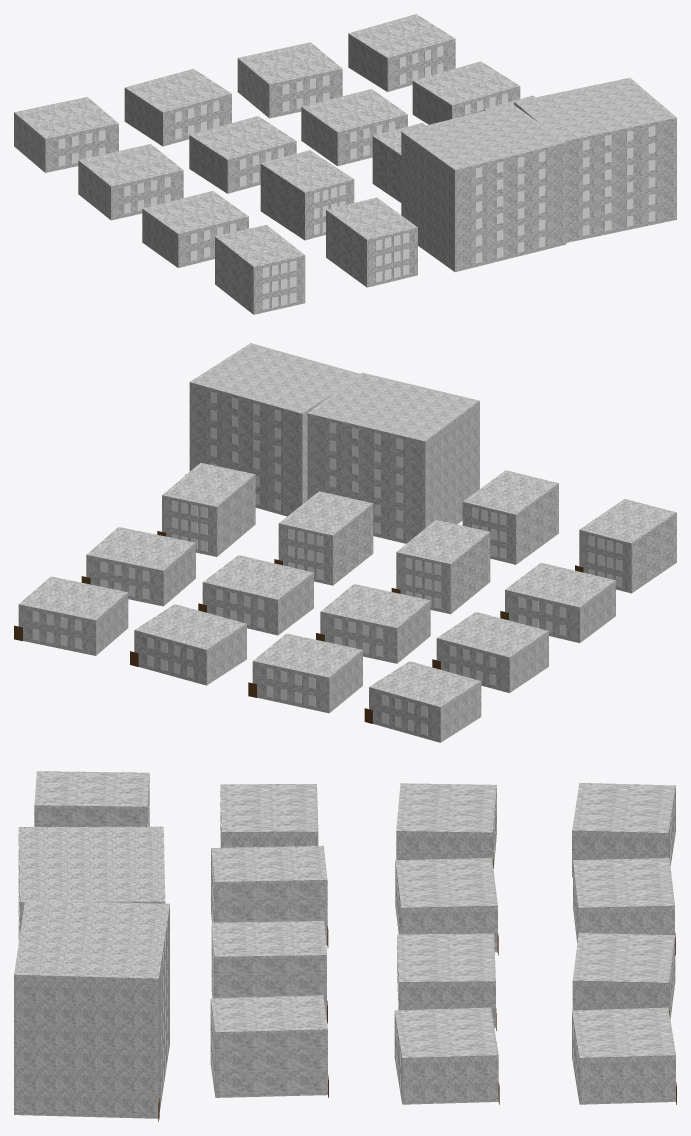
Rendered from bld_mln3w8z8_gxoxed5.glb.
3 views of the same model, one above another, from view 1: azimuth 30°, elevation 25°; view 2: azimuth 150°, elevation 25°; view 3: azimuth 270°, elevation 25° (orthographic). The views are drawn at different scales.
Parts seen in each view (by area): view 1: building-building-1771121291963-18, building-building-1771121291963-19, building-building-1771121291963-17, building-building-1771121291963-16, building-building-1771121291963-4, building-building-1771121291963-2, building-building-1771121291963-12, building-building-1771121291963-6, building-building-1771121291963-3, building-building-1771121291963-1, building-building-1771121291963-8, building-building-1771121291963-7 (+3 smaller); view 2: building-building-1771121291963-18, building-building-1771121291963-19, building-building-1771121291963-1, building-building-1771121291963-3, building-building-1771121291963-2, building-building-1771121291963-16, building-building-1771121291963-4, building-building-1771121291963-13, building-building-1771121291963-12, building-building-1771121291963-6, building-building-1771121291963-14, building-building-1771121291963-8 (+4 smaller); view 3: building-building-1771121291963-19, building-building-1771121291963-14, building-building-1771121291963-18, building-building-1771121291963-9, building-building-1771121291963-4, building-building-1771121291963-12, building-building-1771121291963-13, building-building-1771121291963-7, building-building-1771121291963-1, building-building-1771121291963-3, building-building-1771121291963-2, building-building-1771121291963-6 (+3 smaller).
Part boxes in pixels (bbox=[...]): building-building-1771121291963-18: bbox=[401, 104, 566, 272]; building-building-1771121291963-19: bbox=[514, 77, 676, 242]; building-building-1771121291963-17: bbox=[326, 197, 417, 287]; building-building-1771121291963-16: bbox=[215, 225, 305, 314]; building-building-1771121291963-4: bbox=[348, 14, 455, 91]; building-building-1771121291963-2: bbox=[124, 68, 231, 146]; building-building-1771121291963-12: bbox=[260, 150, 354, 240]; building-building-1771121291963-6: bbox=[78, 144, 183, 220]; building-building-1771121291963-3: bbox=[237, 42, 342, 118]; building-building-1771121291963-1: bbox=[14, 97, 118, 172]; building-building-1771121291963-8: bbox=[301, 89, 407, 166]; building-building-1771121291963-7: bbox=[189, 116, 296, 193]; building-building-1771121291963-18: bbox=[307, 372, 479, 543]; building-building-1771121291963-19: bbox=[185, 343, 359, 516]; building-building-1771121291963-1: bbox=[364, 661, 481, 742]; building-building-1771121291963-3: bbox=[130, 604, 246, 685]; building-building-1771121291963-2: bbox=[248, 633, 362, 713]; building-building-1771121291963-16: bbox=[575, 499, 676, 593]; building-building-1771121291963-4: bbox=[14, 576, 128, 655]; building-building-1771121291963-13: bbox=[274, 491, 373, 585]; building-building-1771121291963-12: bbox=[391, 520, 490, 614]; building-building-1771121291963-6: bbox=[432, 612, 548, 692]; building-building-1771121291963-14: bbox=[157, 462, 255, 556]; building-building-1771121291963-8: bbox=[198, 555, 313, 635]; building-building-1771121291963-19: bbox=[14, 900, 169, 1121]; building-building-1771121291963-14: bbox=[210, 995, 328, 1097]; building-building-1771121291963-18: bbox=[18, 826, 165, 939]; building-building-1771121291963-9: bbox=[394, 1007, 499, 1104]; building-building-1771121291963-4: bbox=[572, 1007, 676, 1104]; building-building-1771121291963-12: bbox=[211, 845, 328, 947]; building-building-1771121291963-13: bbox=[211, 921, 327, 1023]; building-building-1771121291963-7: bbox=[395, 858, 498, 955]; building-building-1771121291963-1: bbox=[572, 783, 675, 877]; building-building-1771121291963-3: bbox=[572, 933, 675, 1019]; building-building-1771121291963-2: bbox=[573, 858, 675, 955]; building-building-1771121291963-6: bbox=[396, 783, 496, 869].
Bounding box in the file's own units: 85.72 × 19.23 × 82.25.
80 materials, 16 textured.
